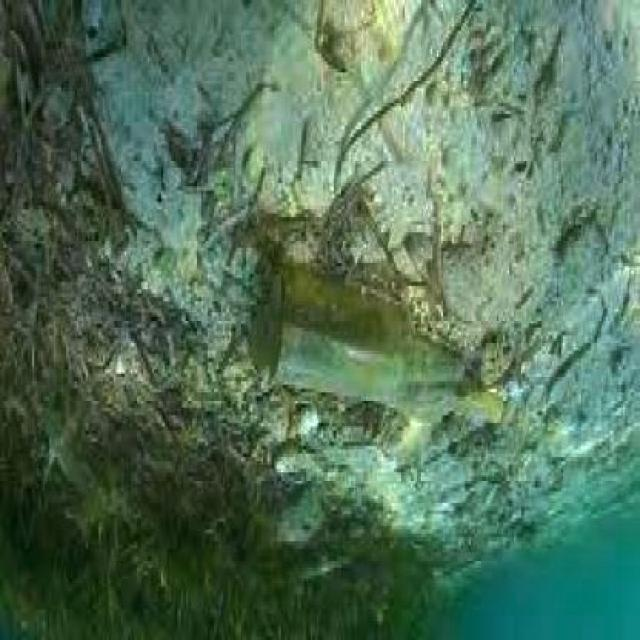gbottle: (253, 266, 505, 423)
